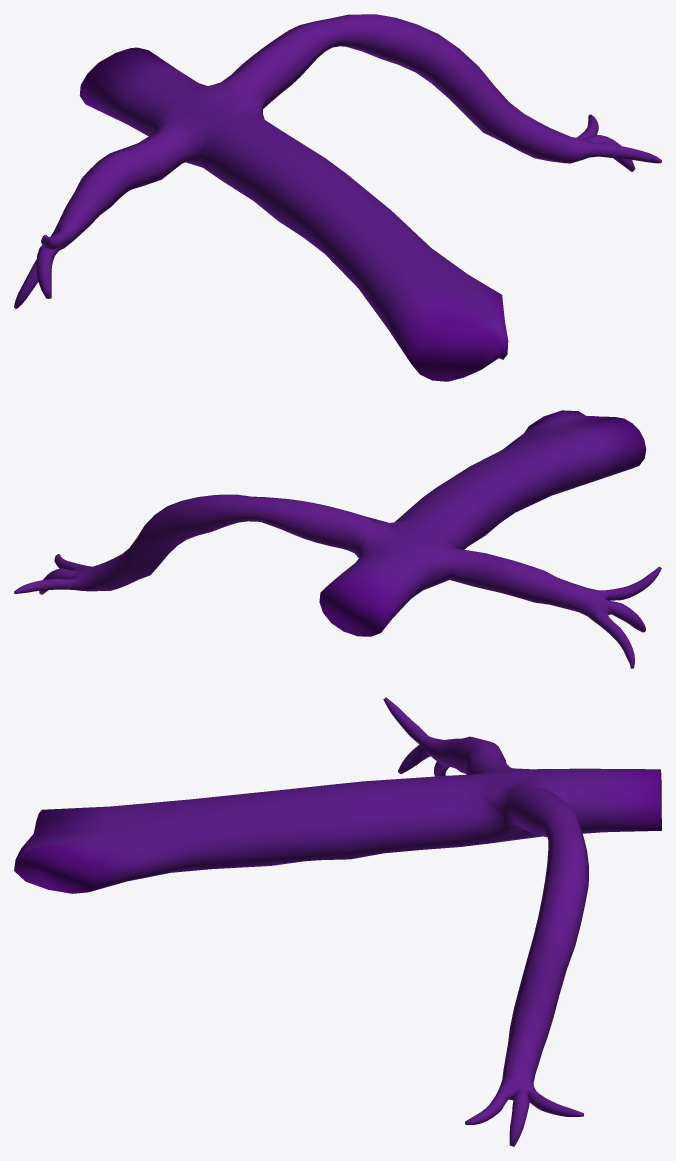
Rendered from IVC_out.FBX.
The picture shows the model from 3 angles, top to bottom: view 1: azimuth 30°, elevation 25°; view 2: azimuth 150°, elevation 25°; view 3: azimuth 270°, elevation 25°; orthographic projection. The views are drawn at different scales.
Visible parts, largest first — view 1: IVC_out-Snapshot; view 2: IVC_out-Snapshot; view 3: IVC_out-Snapshot.
Boxes of the visible parts, left/top/right/bottom form: IVC_out-Snapshot: left=14, top=14, right=661, bottom=381; IVC_out-Snapshot: left=14, top=410, right=661, bottom=668; IVC_out-Snapshot: left=14, top=697, right=661, bottom=1146.
Bounding box in the file's own units: 144 × 41.85 × 125.
